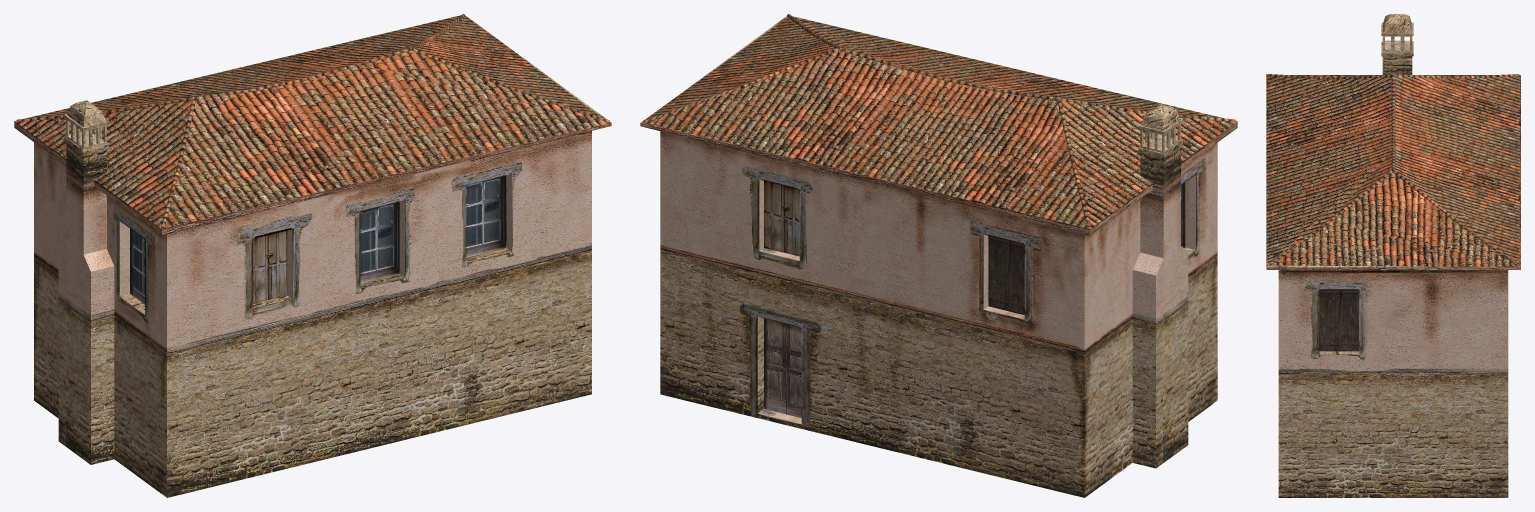
Rendered from ottoman1d.fbx.
3 views of the same model, side by side, from view 1: azimuth 30°, elevation 25°; view 2: azimuth 150°, elevation 25°; view 3: azimuth 270°, elevation 25° (orthographic). The views are drawn at different scales.
Visible parts, largest first — view 1: Group1; view 2: Group1; view 3: Group1.
Part boxes in pixels (bbox=[...]): Group1: bbox=[14, 14, 611, 497]; Group1: bbox=[640, 14, 1237, 497]; Group1: bbox=[1266, 14, 1520, 497].
Size of the model in its own units: 2775 by 1999 by 1537.
